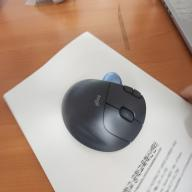mouse: (62, 72, 146, 152)
